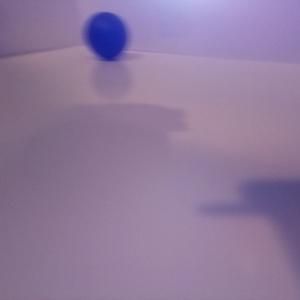dead_ball: (85, 12, 127, 59)
